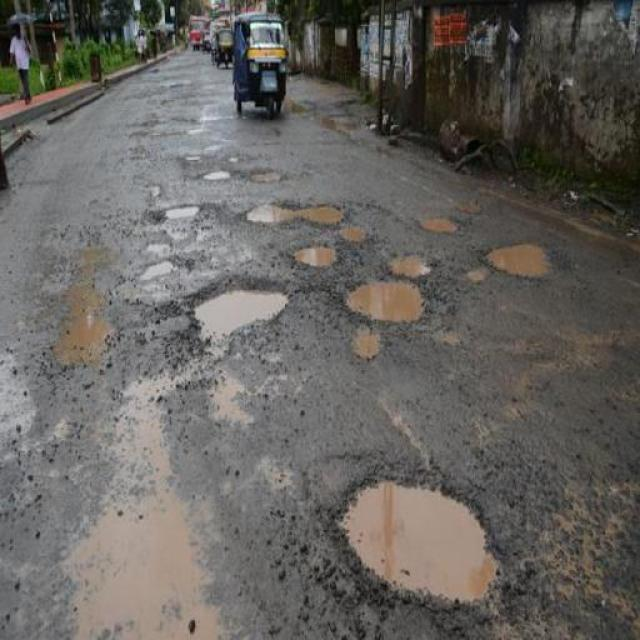puddle: (354, 480, 494, 600), (90, 521, 210, 640), (192, 290, 277, 339), (347, 277, 426, 328), (491, 245, 552, 286)
